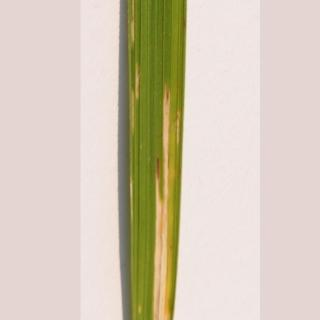Hawar-Daun: (148, 81, 178, 320), (122, 15, 148, 132), (116, 172, 145, 223)
